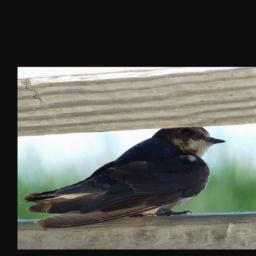Swallow: (23, 126, 227, 229)
